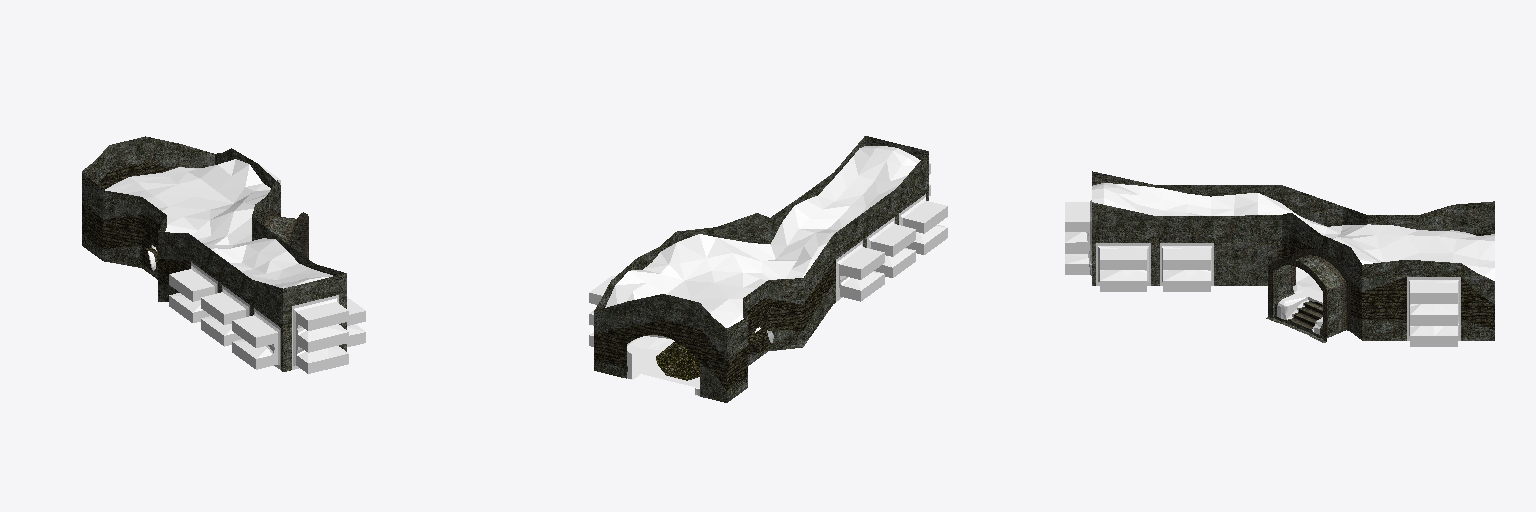
The picture shows the model from 3 angles: view 1: azimuth 30°, elevation 25°; view 2: azimuth 150°, elevation 25°; view 3: azimuth 270°, elevation 25°; orthographic projection.
Parts seen in each view (by area): view 1: mesh4, mesh1, mesh2, mesh3; view 2: mesh4, mesh1, mesh2, mesh11; view 3: mesh1, mesh4, mesh2, mesh3, mesh0.
Part boxes in pixels (bbox=[...]): mesh4: bbox=[105, 159, 365, 373]; mesh1: bbox=[82, 136, 346, 371]; mesh2: bbox=[82, 163, 280, 284]; mesh3: bbox=[262, 209, 308, 258]; mesh4: bbox=[589, 146, 947, 396]; mesh1: bbox=[594, 136, 928, 402]; mesh2: bbox=[594, 242, 835, 390]; mesh11: bbox=[656, 341, 699, 380]; mesh1: bbox=[1092, 171, 1494, 340]; mesh4: bbox=[1065, 183, 1494, 346]; mesh2: bbox=[1277, 234, 1494, 329]; mesh3: bbox=[1268, 248, 1350, 338]; mesh0: bbox=[1288, 301, 1322, 330].
Bounding box in the file's own units: 8.82 × 4.9 × 18.25.
Materials: 12 (5 with a texture image).